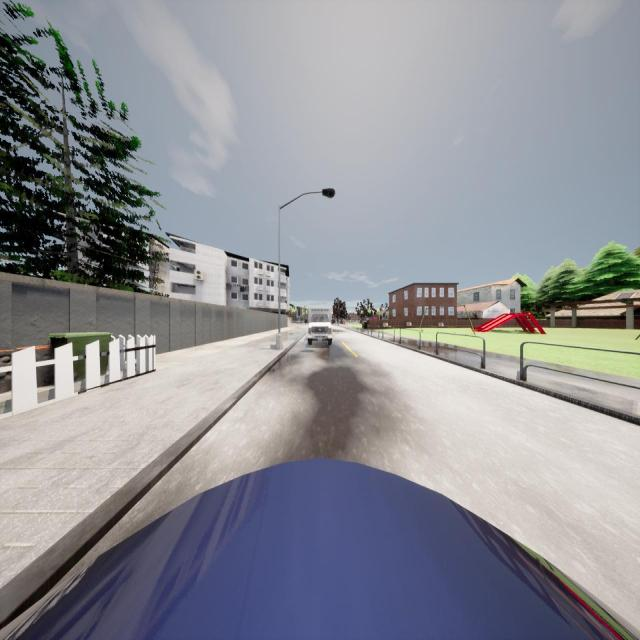Vehicle: (0, 458, 640, 640), (304, 308, 336, 346)
